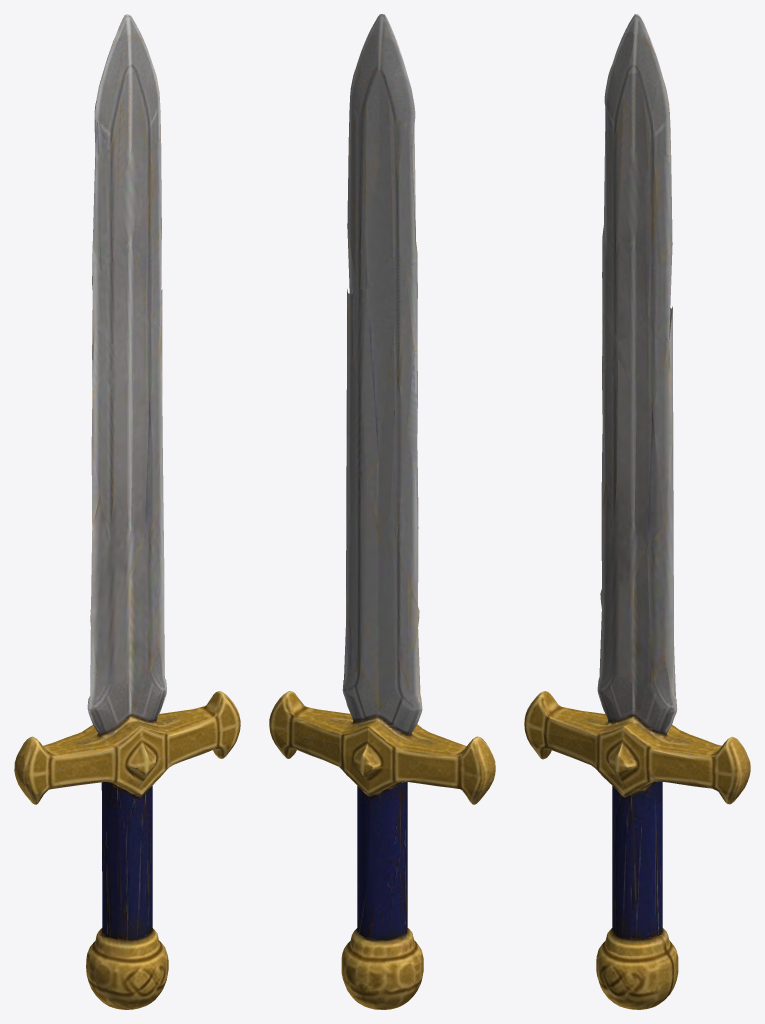
Rendered from highguard_sword.glb.
The picture shows the model from 3 angles, left to right: view 1: azimuth 30°, elevation 25°; view 2: azimuth 150°, elevation 25°; view 3: azimuth 330°, elevation 25°; orthographic projection.
Bounding box in the file's own units: 0.5514 × 2.37 × 0.1791.
Materials: 1 (1 with a texture image).
